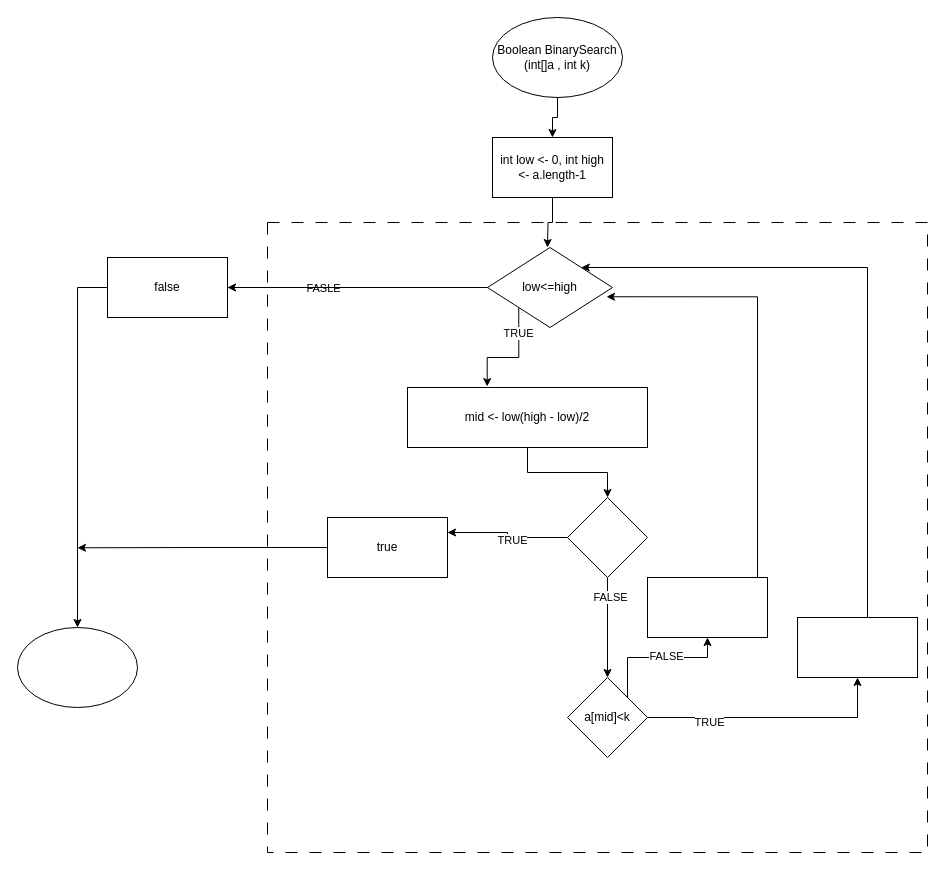
The diagram is 945 pixels wide and 870 high, and some of its shapes have lost their labels. Here are the shapes that lost their labels. From the top down, the box of each, then its label:
(566, 496, 648, 578): a[mid] = k
(646, 576, 768, 638): high <- mid -1
(16, 626, 138, 708): return
(796, 616, 918, 678): low <- mid +1
